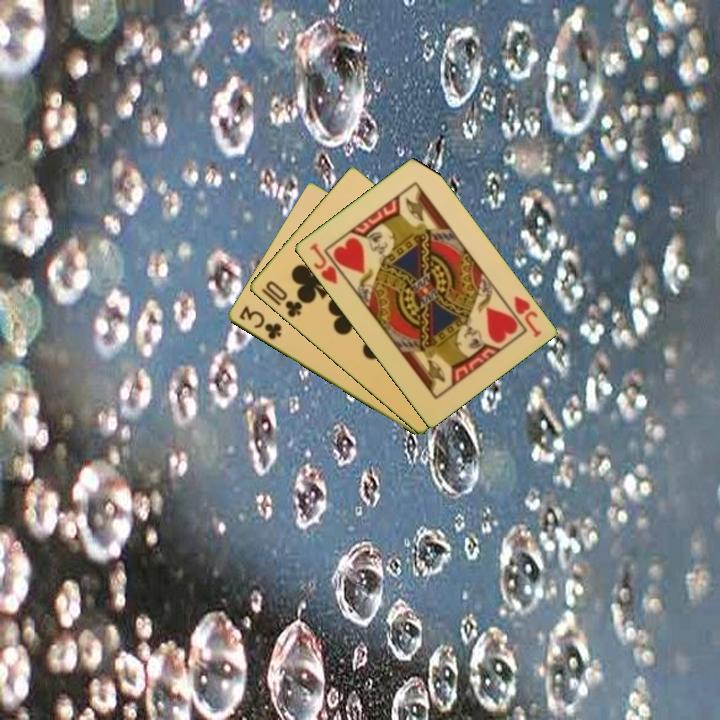10c: (261, 277, 305, 321)
3c: (235, 302, 284, 343)
Jh: (305, 239, 340, 287), (510, 292, 544, 340)
